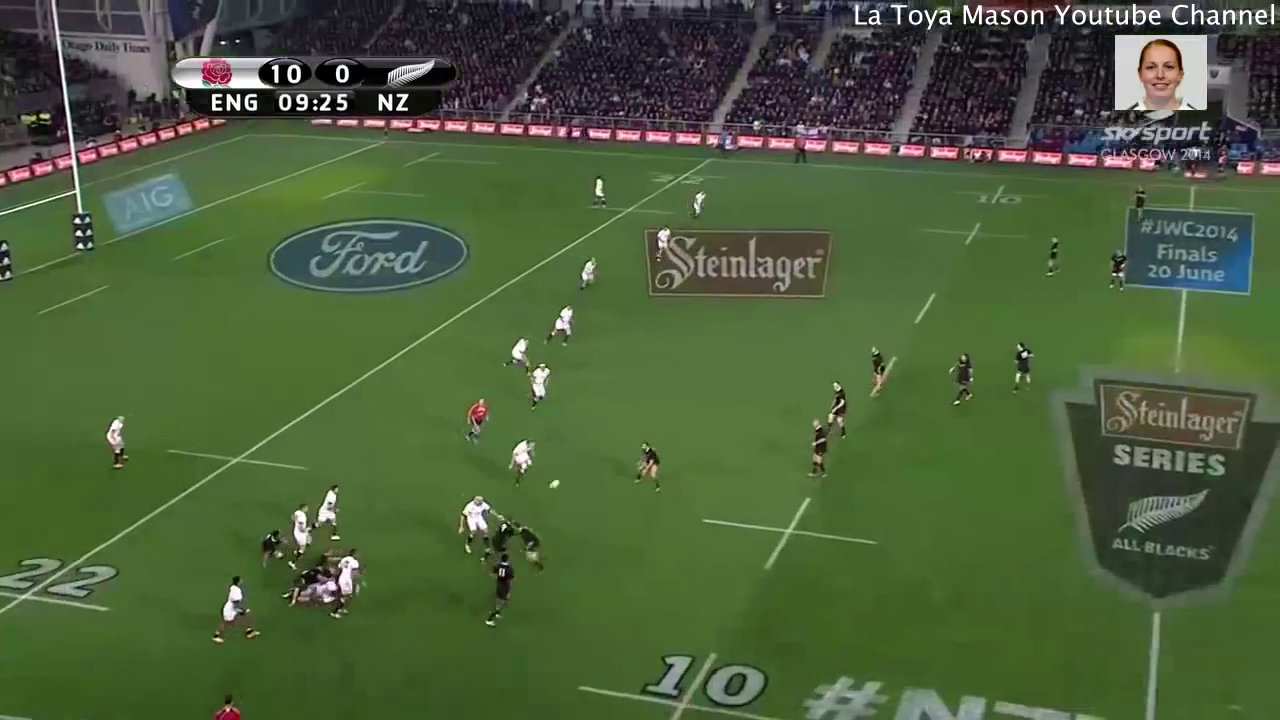10_metre: (697, 493, 884, 578), (577, 645, 787, 720), (920, 218, 1039, 247), (949, 182, 1057, 211)
player: (211, 573, 263, 647), (483, 553, 522, 638), (327, 545, 364, 623), (629, 437, 673, 500), (539, 300, 585, 353), (457, 493, 493, 556), (280, 500, 316, 561), (519, 356, 557, 410), (942, 350, 977, 408), (103, 408, 134, 473), (463, 390, 494, 452), (822, 381, 853, 443), (313, 482, 344, 544), (512, 521, 549, 571), (804, 417, 831, 481), (1039, 229, 1071, 281), (254, 526, 290, 570), (1007, 340, 1036, 394), (646, 222, 676, 272), (1106, 244, 1133, 299), (500, 330, 532, 375), (504, 436, 533, 483), (490, 512, 519, 559), (866, 343, 891, 394), (686, 186, 719, 223), (573, 250, 599, 293), (1127, 181, 1154, 221), (590, 173, 614, 213)
post: (1, 134, 103, 294)
ruck: (278, 540, 368, 614)
